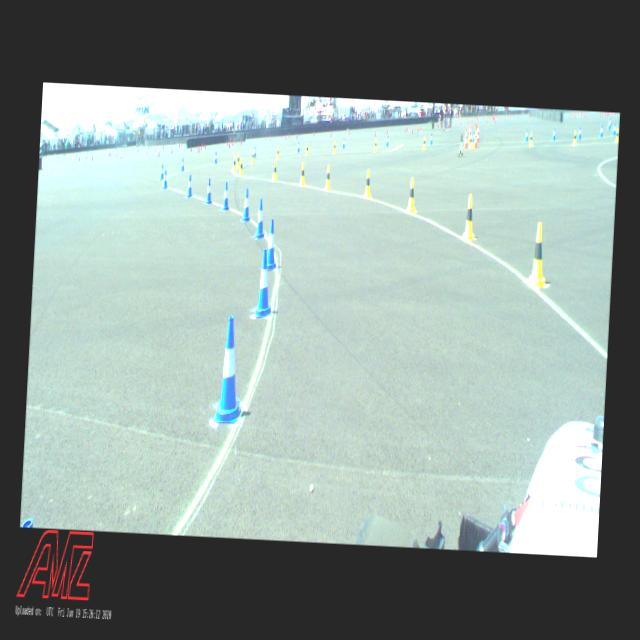blue_cone: (213, 316, 247, 424), (254, 248, 275, 318), (264, 218, 280, 270), (254, 199, 267, 240), (242, 188, 252, 222), (222, 182, 232, 212), (186, 174, 194, 198), (206, 178, 213, 204), (162, 170, 168, 188), (160, 164, 165, 181), (180, 158, 186, 172), (428, 132, 434, 145), (551, 128, 556, 142), (600, 124, 604, 138), (524, 128, 528, 142), (612, 122, 616, 136), (578, 126, 582, 139), (342, 138, 346, 150), (214, 152, 218, 164), (386, 136, 390, 146), (608, 118, 612, 128), (472, 131, 475, 144), (253, 146, 256, 158), (297, 142, 300, 153), (608, 120, 610, 130)
large_orange_cone: (463, 126, 468, 150), (473, 125, 478, 148), (467, 123, 472, 143), (476, 124, 480, 144)
unknown_cone: (348, 130, 351, 136), (419, 125, 422, 131), (158, 149, 160, 158), (92, 153, 94, 162), (374, 129, 376, 137), (411, 127, 413, 135), (204, 142, 206, 150), (146, 148, 148, 156), (120, 152, 122, 160), (78, 154, 80, 162), (494, 118, 496, 125), (226, 140, 228, 147), (230, 136, 232, 143), (386, 128, 388, 135), (404, 127, 406, 134), (406, 125, 408, 132), (198, 146, 200, 153), (170, 147, 172, 154), (228, 142, 230, 148), (232, 140, 234, 146), (234, 138, 236, 144), (240, 138, 242, 144), (266, 135, 268, 141), (270, 135, 272, 141), (296, 133, 298, 139), (312, 131, 314, 137), (330, 132, 332, 138), (417, 126, 419, 132), (442, 126, 444, 132), (468, 120, 470, 126), (202, 142, 204, 148), (190, 146, 192, 152), (154, 145, 156, 151), (474, 120, 476, 126), (510, 114, 512, 119), (514, 115, 516, 119), (508, 114, 509, 120), (448, 124, 449, 130), (461, 120, 462, 126), (472, 118, 473, 124), (487, 118, 488, 124), (201, 144, 202, 150), (285, 135, 286, 140), (437, 123, 438, 128), (288, 134, 289, 138), (489, 117, 490, 121), (493, 116, 494, 120), (458, 119, 458, 123)
yellow_cone: (527, 222, 550, 291), (462, 194, 478, 242), (406, 176, 418, 214), (363, 169, 373, 198), (324, 165, 332, 190), (298, 163, 306, 186), (272, 160, 279, 181), (238, 156, 245, 176), (572, 130, 578, 146), (528, 132, 534, 147), (614, 128, 620, 143), (468, 132, 473, 150), (422, 136, 427, 150), (373, 138, 378, 152), (332, 141, 337, 154), (251, 150, 255, 164), (306, 144, 310, 156), (237, 154, 240, 168), (276, 146, 279, 159)
